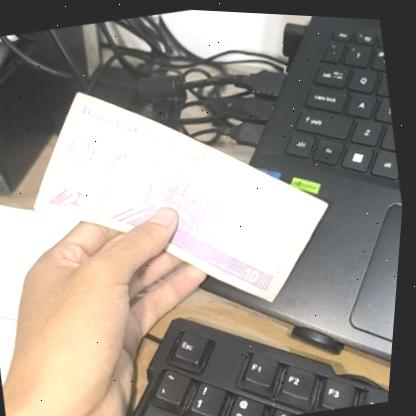ten-back-vef: (10, 45, 357, 344)
